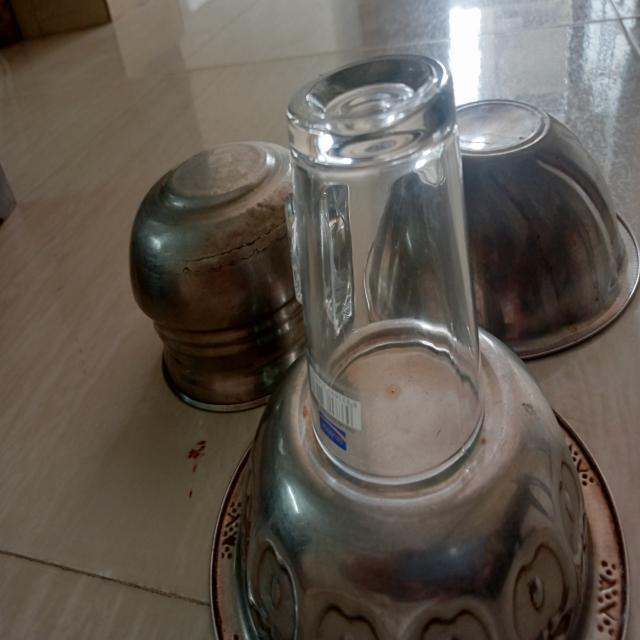glass-VX4N: (284, 51, 490, 490)
